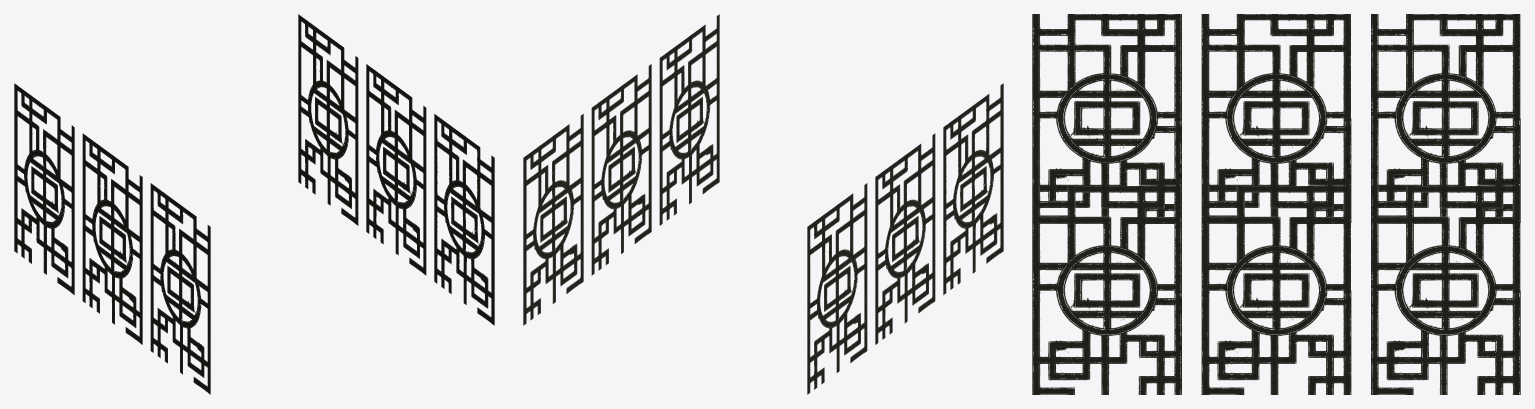
The model's file is SM_MeditationWindows.FBX.
3 renders of one model, left to right at view 1: azimuth 30°, elevation 25°; view 2: azimuth 150°, elevation 25°; view 3: azimuth 270°, elevation 25°, orthographic. The views are drawn at different scales.
Visible parts, largest first — view 1: SM_MeditationWindows; view 2: SM_MeditationWindows; view 3: SM_MeditationWindows.
Part boxes in pixels (box(x1,y1,x2,y2)): SM_MeditationWindows: box(14, 14, 494, 394); SM_MeditationWindows: box(523, 14, 1003, 394); SM_MeditationWindows: box(1032, 14, 1520, 394).
Size of the model in its own units: 768 by 921 by 435.
